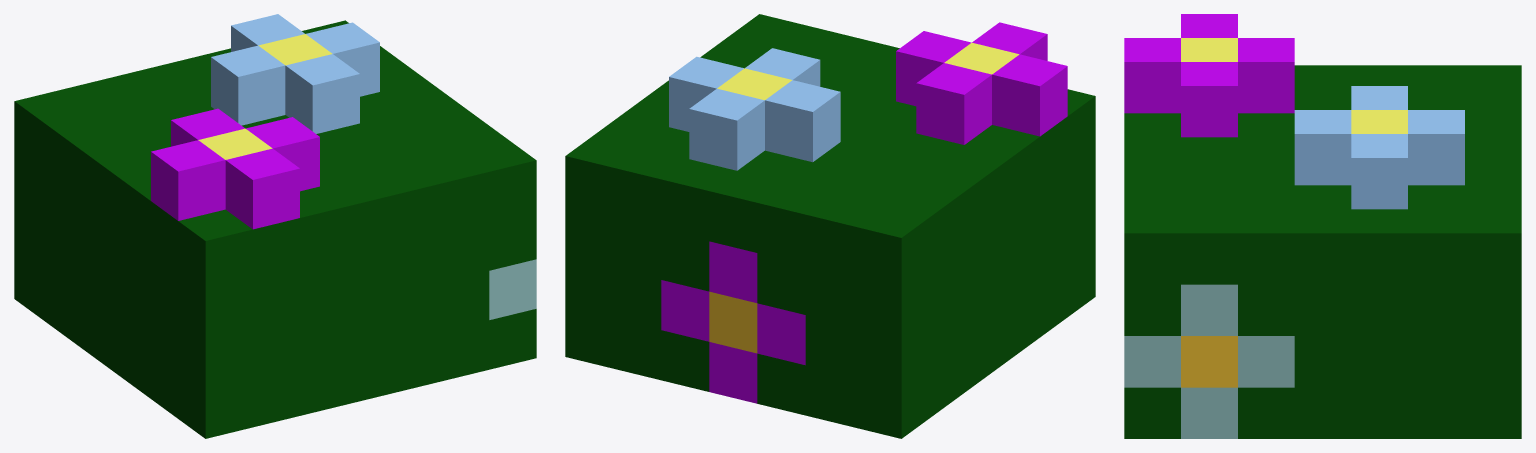
File: Arbusto.gltf
3 views of the same model, side by side, from view 1: azimuth 30°, elevation 25°; view 2: azimuth 150°, elevation 25°; view 3: azimuth 270°, elevation 25° (orthographic). The views are drawn at different scales.
Parts seen in each view (by area): view 1: Arbusto; view 2: Arbusto; view 3: Arbusto.
Part boxes in pixels (left/top/right/bottom): Arbusto: left=14, top=14, right=536, bottom=438; Arbusto: left=565, top=14, right=1095, bottom=438; Arbusto: left=1124, top=14, right=1521, bottom=438.
Bounding box in the file's own units: 0.7 × 0.5 × 0.7.
Materials: 1 (1 with a texture image).
